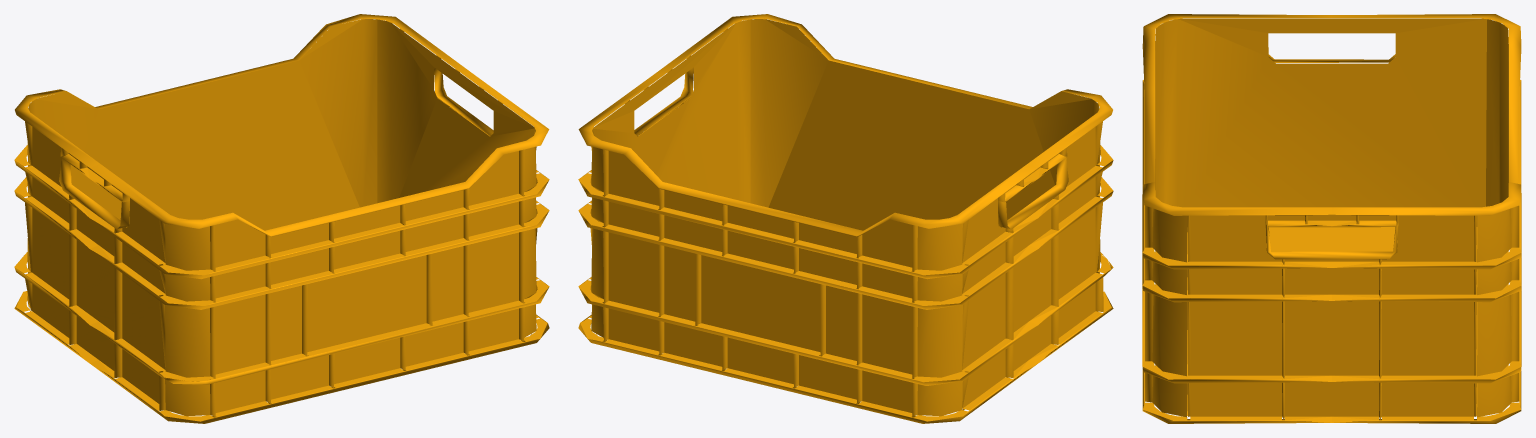
File: plastic_crate_02.gltf
The picture shows the model from 3 angles, left to right: view 1: azimuth 30°, elevation 25°; view 2: azimuth 150°, elevation 25°; view 3: azimuth 270°, elevation 25°; orthographic projection. The views are drawn at different scales.
Parts seen in each view (by area): view 1: plastic_crate_02; view 2: plastic_crate_02; view 3: plastic_crate_02.
Part boxes in pixels (x1=…): plastic_crate_02: x1=14, y1=14, x2=549, y2=423; plastic_crate_02: x1=578, y1=14, x2=1113, y2=423; plastic_crate_02: x1=1142, y1=14, x2=1521, y2=423.
Size of the model in its own units: 0.5055 by 0.2541 by 0.4053.
